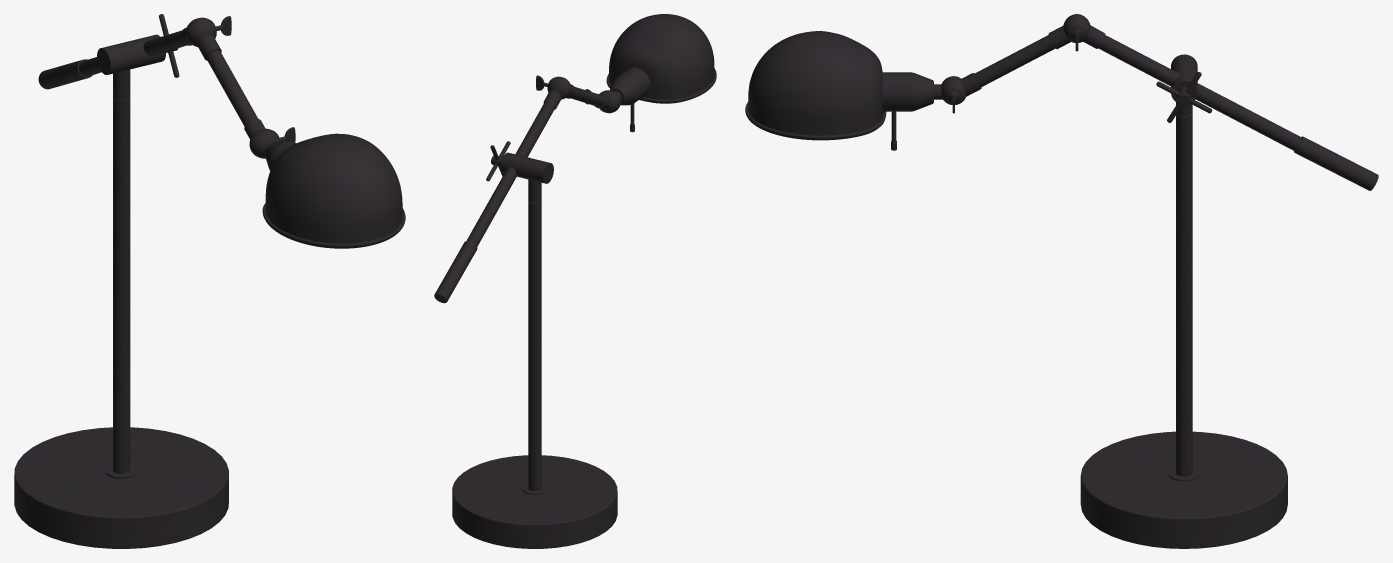
Rendered from plant_B07HK68BTZ.glb.
3 renders of one model, left to right at view 1: azimuth 30°, elevation 25°; view 2: azimuth 150°, elevation 25°; view 3: azimuth 270°, elevation 25°, orthographic. The views are drawn at different scales.
Parts seen in each view (by area): view 1: RootNode; view 2: RootNode; view 3: RootNode.
Part boxes in pixels (left/top/right/bottom): RootNode: left=14, top=14, right=405, bottom=548; RootNode: left=434, top=14, right=716, bottom=548; RootNode: left=745, top=14, right=1378, bottom=548.
Size of the model in its own units: 0.1855 by 0.4951 by 0.567.
1 material, 1 textured.
